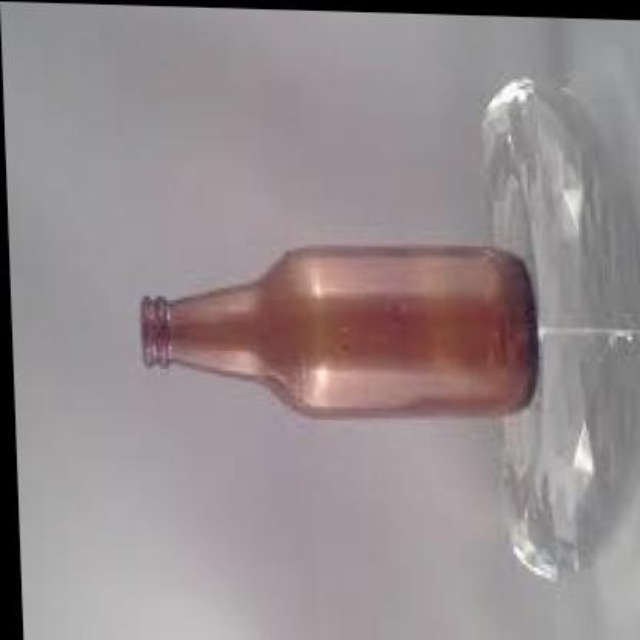trash: (142, 246, 537, 415)
